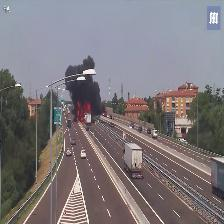fire: (74, 102, 91, 121)
